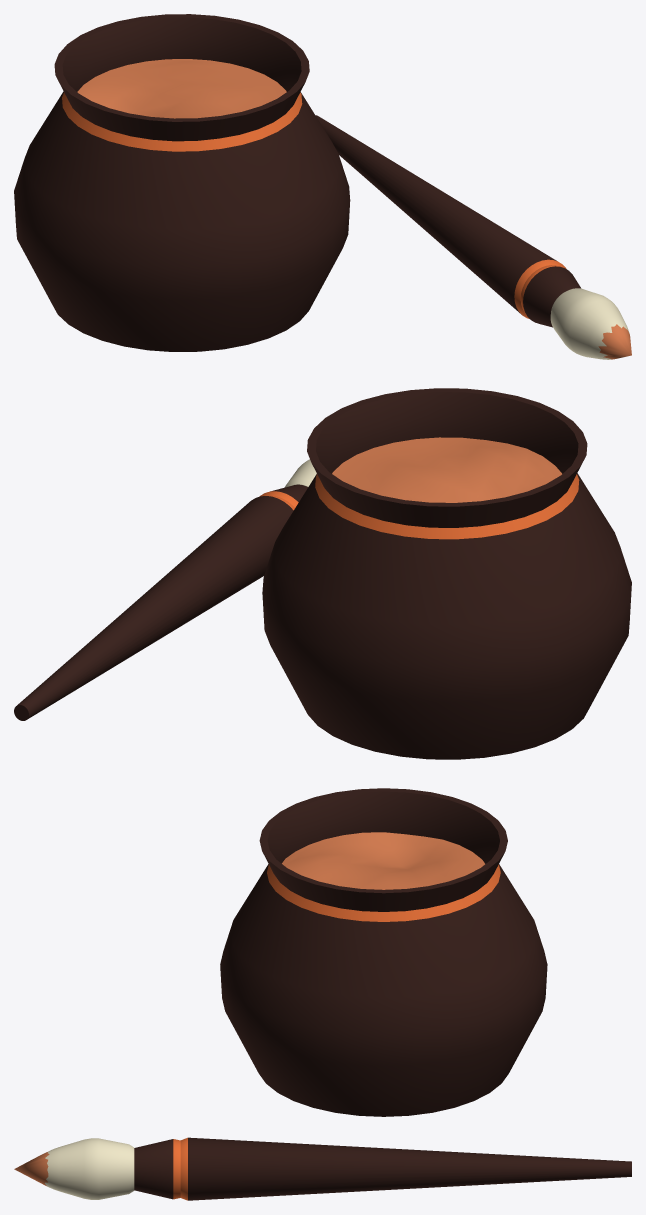
Rendered from bpw lantern - paint.fbx.
The picture shows the model from 3 angles, top to bottom: view 1: azimuth 30°, elevation 25°; view 2: azimuth 150°, elevation 25°; view 3: azimuth 270°, elevation 25°; orthographic projection. The views are drawn at different scales.
Visible parts, largest first — view 1: Cylinder.001, Cylinder.002; view 2: Cylinder.001, Cylinder.002; view 3: Cylinder.001, Cylinder.002.
Boxes of the visible parts, left/top/right/bottom form: Cylinder.001: left=14, top=14, right=350, bottom=351; Cylinder.002: left=315, top=115, right=631, bottom=359; Cylinder.001: left=262, top=388, right=631, bottom=759; Cylinder.002: left=14, top=459, right=316, bottom=720; Cylinder.001: left=220, top=788, right=547, bottom=1116; Cylinder.002: left=14, top=1137, right=631, bottom=1200.
Size of the model in its own units: 68.74 by 36.49 by 87.32.
